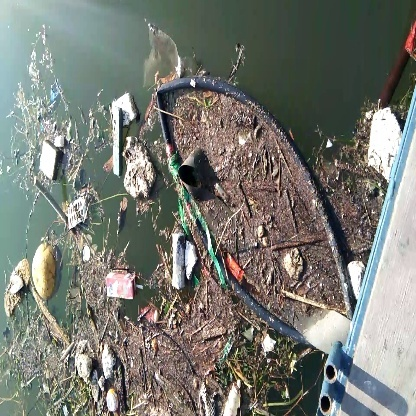milk-box: (103, 263, 145, 315)
